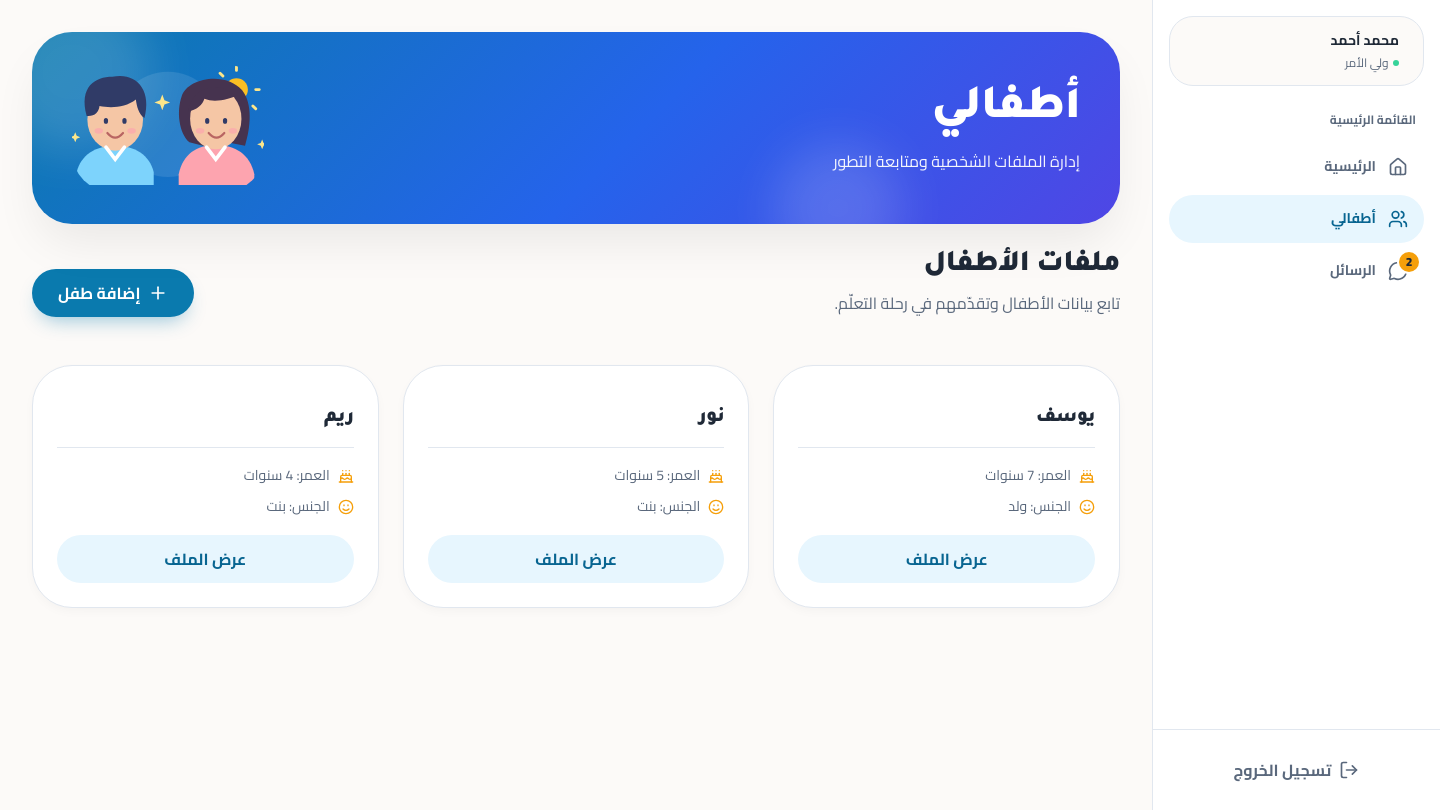
it: ChildrenListPage — parent › validates the add-child form (age is a whole number)
Click the button "إضافة طفل": (113, 293) x1=32 y1=269 x2=194 y2=317
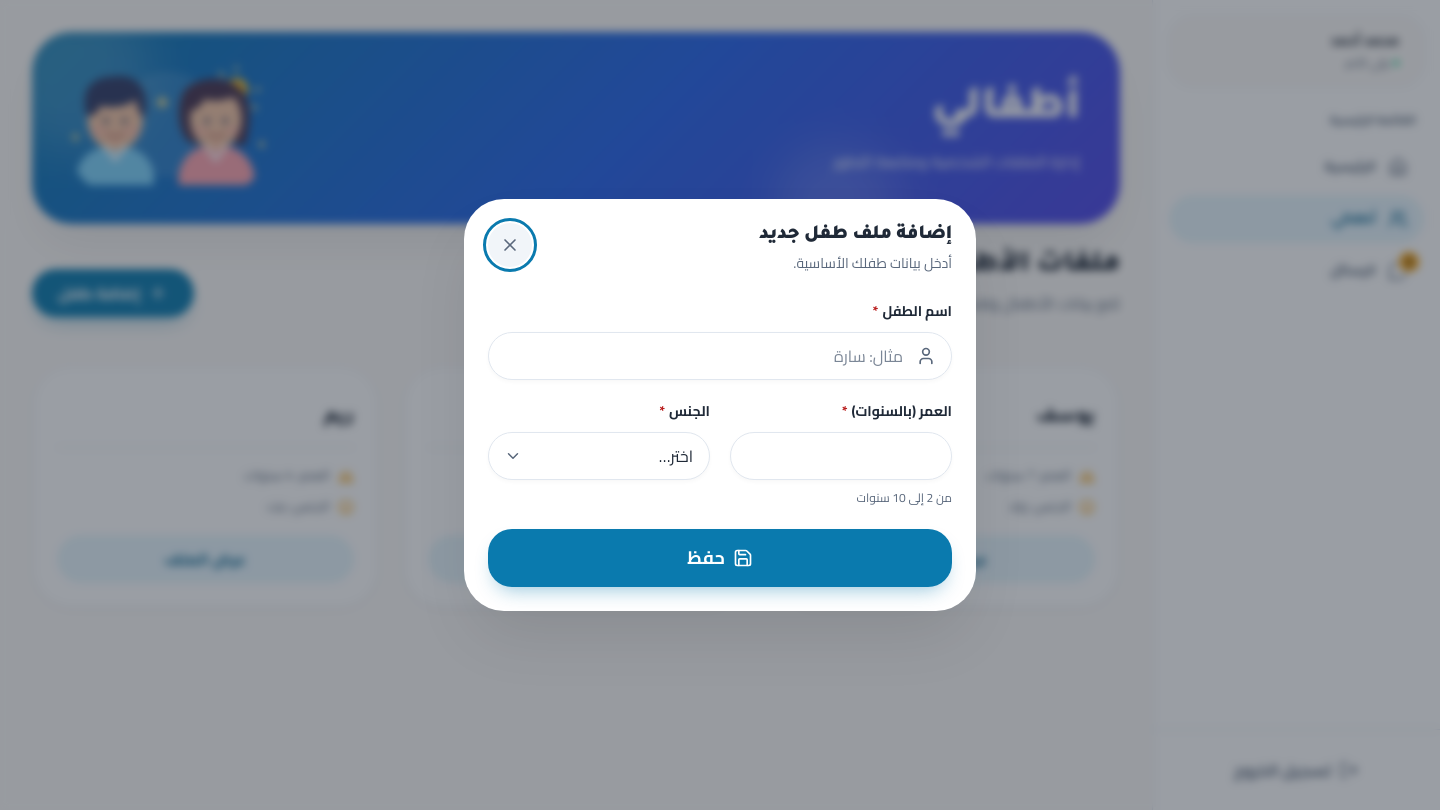
In the field labelled "اسم الطفل*": (720, 356) x1=488 y1=332 x2=952 y2=380, type "سارة"
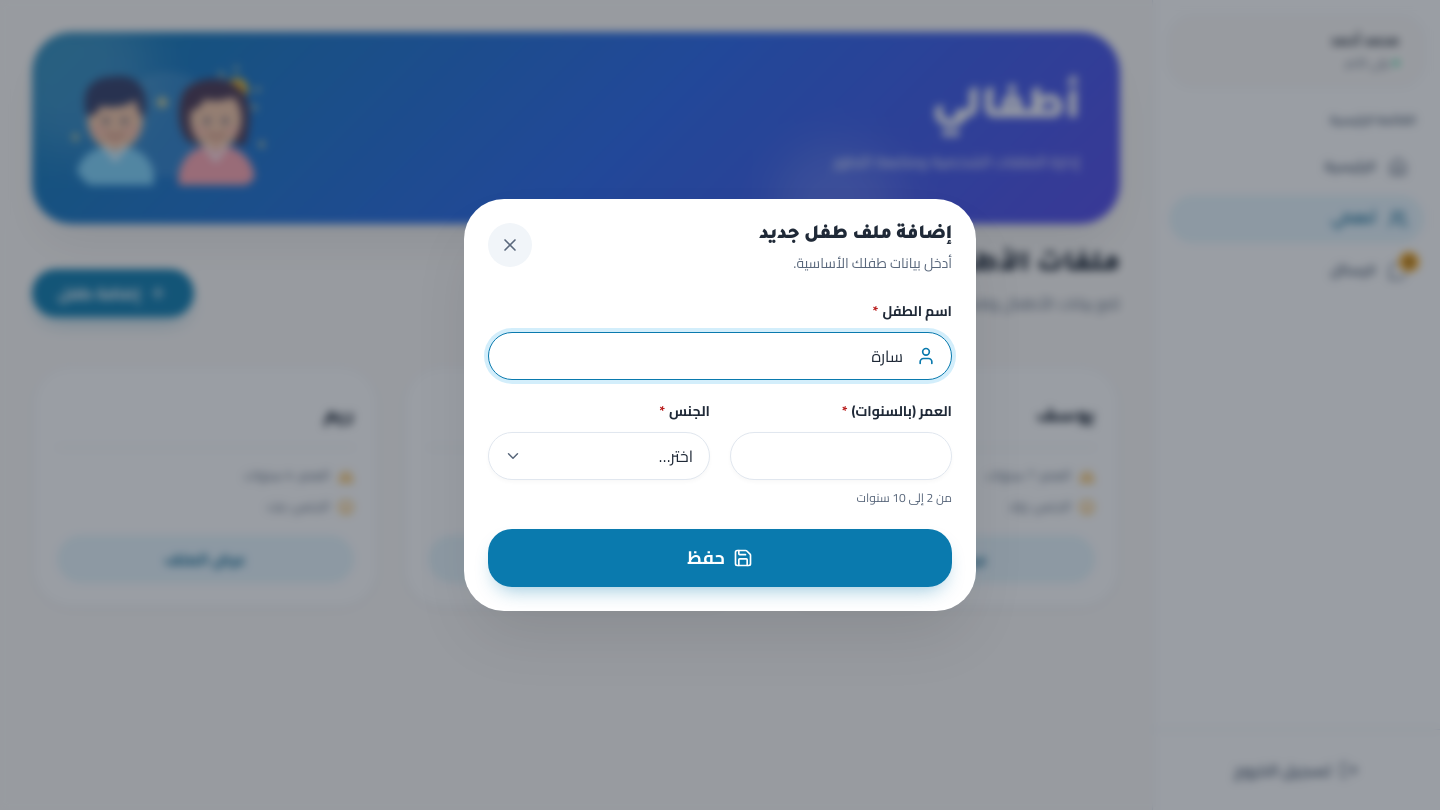
In the number field labelled "العمر (بالسنوات)*": (841, 456) x1=730 y1=432 x2=952 y2=480, type "0"
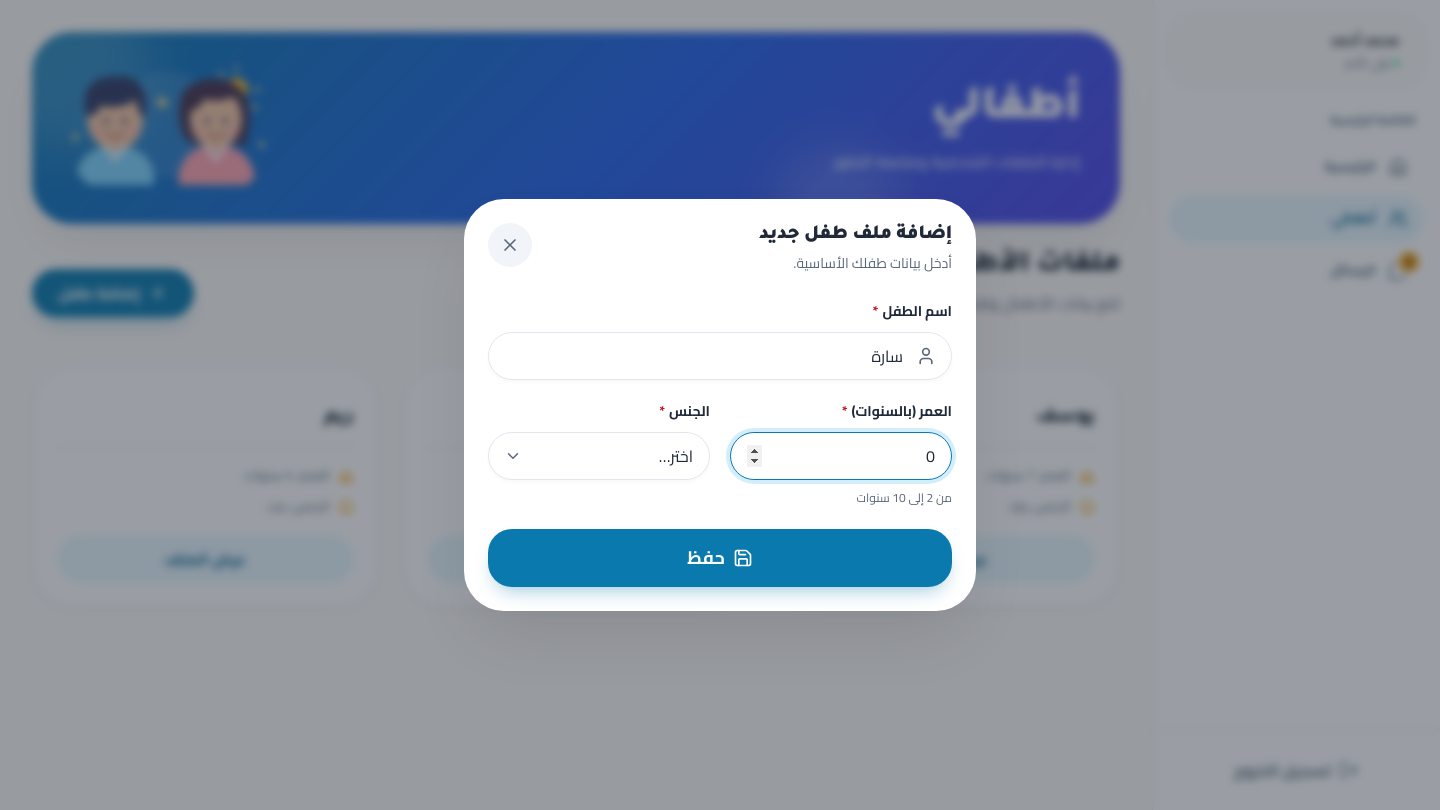
Click the button "حفظ": (720, 558) x1=488 y1=528 x2=952 y2=587
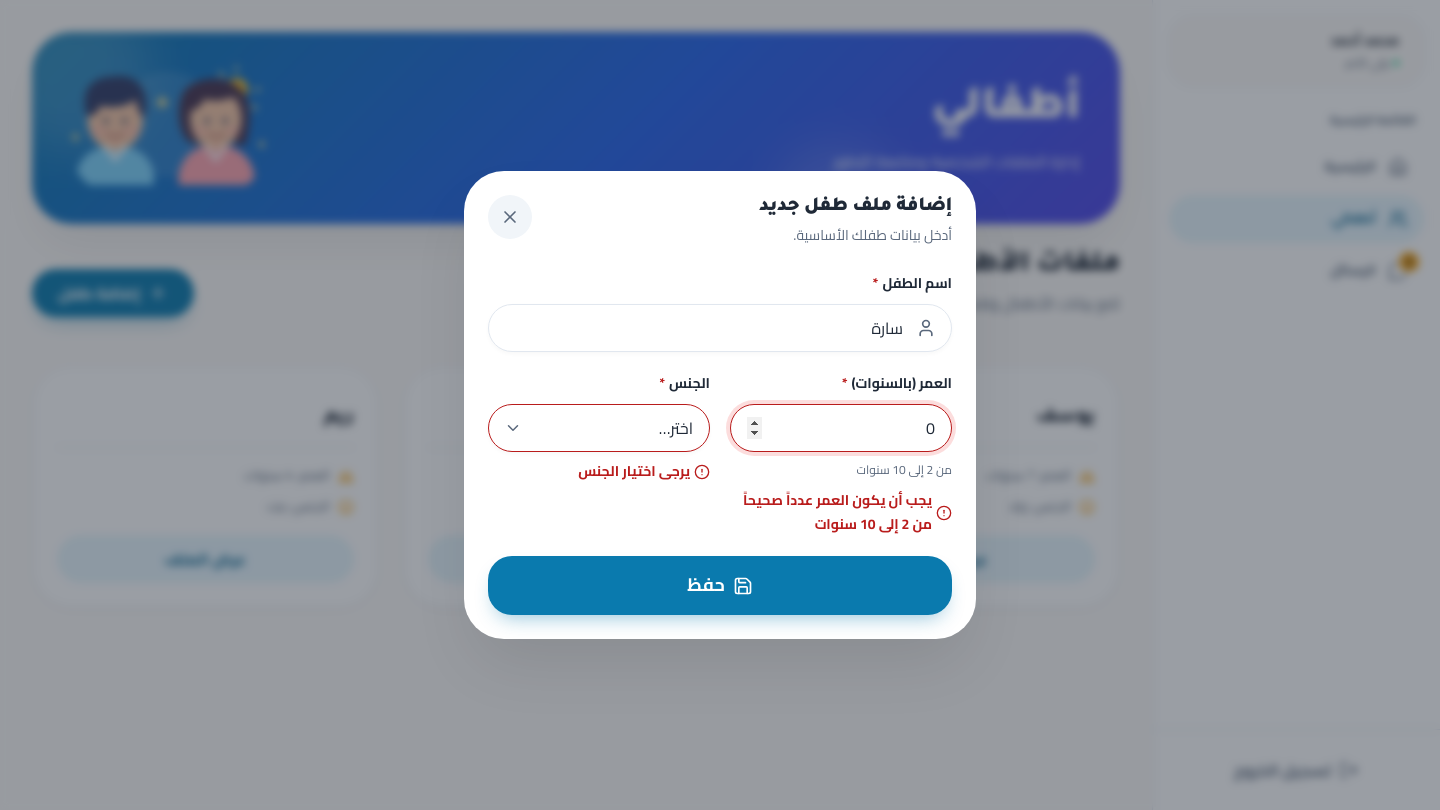
Check: the text "يجب أن يكون العمر عدداً صحيحاً من 2 إلى 10 سنوات" is shown, box x1=730 y1=489 x2=952 y2=536
Check: the text "يرجى اختيار الجنس" is shown, box x1=578 y1=458 x2=710 y2=484
